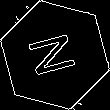N_E: (25, 29, 85, 81)
